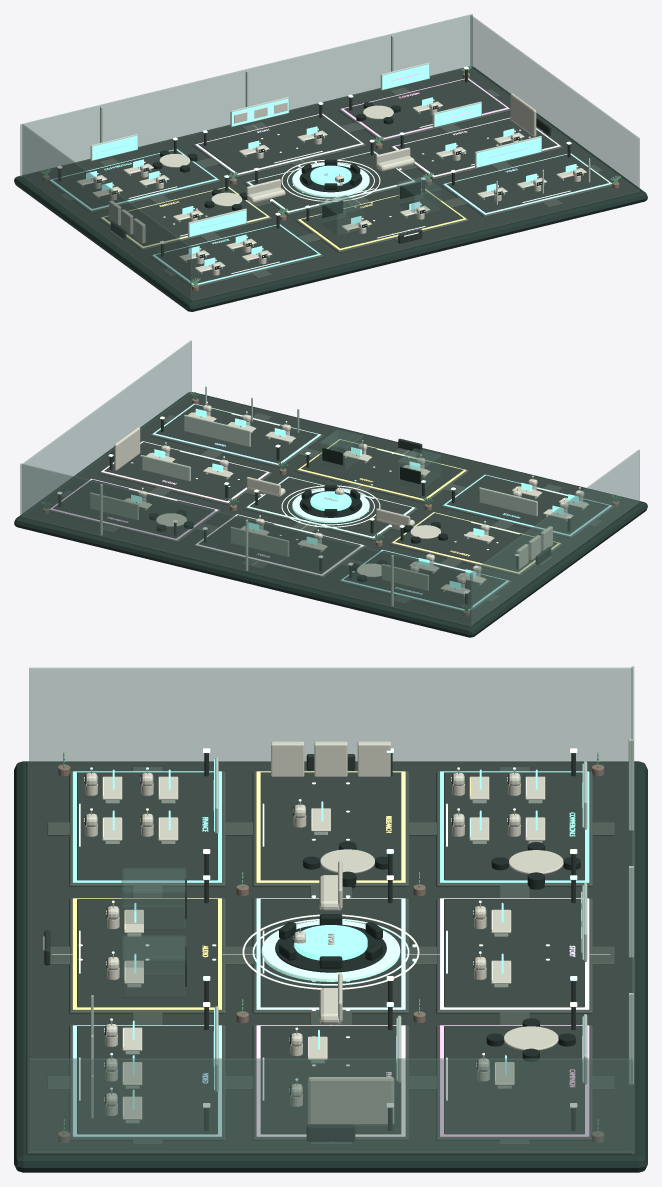
The model's file is nyoni_company_campus_v02.glb.
3 views of the same model, one above another, from view 1: azimuth 30°, elevation 25°; view 2: azimuth 150°, elevation 25°; view 3: azimuth 270°, elevation 25° (orthographic). The views are drawn at different scales.
Visible parts, largest first — view 1: GLASS_BACK, HQ_MAIN_FLOOR, GLASS_LEFT, GLASS_RIGHT, HQ_FOUNDATION, ZONE_INNER_STORY, ZONE_INNER_AUDIO, ZONE_INNER_VIDEO, ZONE_INNER_FINANCE, ZONE_INNER_CAMPAIGN, ZONE_INNER_COMMERCIALS, ZONE_INNER_PHOTO (+33 smaller); view 2: GLASS_BACK, HQ_MAIN_FLOOR, GLASS_LEFT, GLASS_RIGHT, HQ_FOUNDATION, ZONE_INNER_AUDIO, ZONE_INNER_RESEARCH, ZONE_INNER_PHOTO, ZONE_INNER_STORY, ZONE_INNER_FINANCE, ZONE_INNER_CAMPAIGN, ZONE_INNER_VIDEO (+35 smaller); view 3: HQ_MAIN_FLOOR, GLASS_RIGHT, GLASS_LEFT, HQ_FOUNDATION, ZONE_INNER_AUDIO, ZONE_INNER_STORY, ZONE_INNER_CAMPAIGN, ZONE_INNER_VIDEO, ZONE_INNER_RESEARCH, ZONE_INNER_FINANCE, ZONE_INNER_COMMERCIALS, ZONE_INNER_PHOTO (+41 smaller).
Part boxes in pixels (bbox=[...]): GLASS_BACK: bbox=[20, 14, 472, 176]; HQ_MAIN_FLOOR: bbox=[22, 67, 639, 301]; GLASS_LEFT: bbox=[22, 124, 191, 299]; GLASS_RIGHT: bbox=[470, 15, 639, 190]; HQ_FOUNDATION: bbox=[14, 67, 647, 311]; ZONE_INNER_STORY: bbox=[198, 115, 360, 172]; ZONE_INNER_AUDIO: bbox=[301, 190, 463, 248]; ZONE_INNER_VIDEO: bbox=[447, 154, 608, 212]; ZONE_INNER_FINANCE: bbox=[156, 225, 317, 283]; ZONE_INNER_CAMPAIGN: bbox=[344, 79, 506, 137]; ZONE_INNER_COMMERCIALS: bbox=[53, 150, 215, 208]; ZONE_INNER_PHOTO: bbox=[395, 118, 557, 175]; GLASS_BACK: bbox=[20, 463, 472, 626]; HQ_MAIN_FLOOR: bbox=[22, 393, 639, 626]; GLASS_LEFT: bbox=[470, 450, 639, 625]; GLASS_RIGHT: bbox=[22, 340, 191, 515]; HQ_FOUNDATION: bbox=[14, 392, 647, 637]; ZONE_INNER_AUDIO: bbox=[301, 440, 463, 498]; ZONE_INNER_RESEARCH: bbox=[395, 513, 557, 571]; ZONE_INNER_PHOTO: bbox=[104, 442, 266, 500]; ZONE_INNER_STORY: bbox=[199, 515, 360, 573]; ZONE_INNER_FINANCE: bbox=[446, 475, 608, 534]; ZONE_INNER_CAMPAIGN: bbox=[53, 479, 214, 538]; ZONE_INNER_VIDEO: bbox=[155, 404, 317, 463]; HQ_MAIN_FLOOR: bbox=[26, 762, 635, 1154]; GLASS_RIGHT: bbox=[29, 1058, 632, 1152]; GLASS_LEFT: bbox=[29, 667, 632, 761]; HQ_FOUNDATION: bbox=[14, 761, 647, 1172]; ZONE_INNER_AUDIO: bbox=[77, 899, 217, 1007]; ZONE_INNER_STORY: bbox=[444, 899, 584, 1007]; ZONE_INNER_CAMPAIGN: bbox=[444, 1026, 584, 1134]; ZONE_INNER_VIDEO: bbox=[77, 1026, 217, 1134]; ZONE_INNER_RESEARCH: bbox=[260, 772, 401, 880]; ZONE_INNER_FINANCE: bbox=[77, 772, 217, 880]; ZONE_INNER_COMMERCIALS: bbox=[444, 772, 584, 880]; ZONE_INNER_PHOTO: bbox=[260, 1026, 401, 1134].
Bounding box in the file's own units: 57 × 7.4 × 38.
